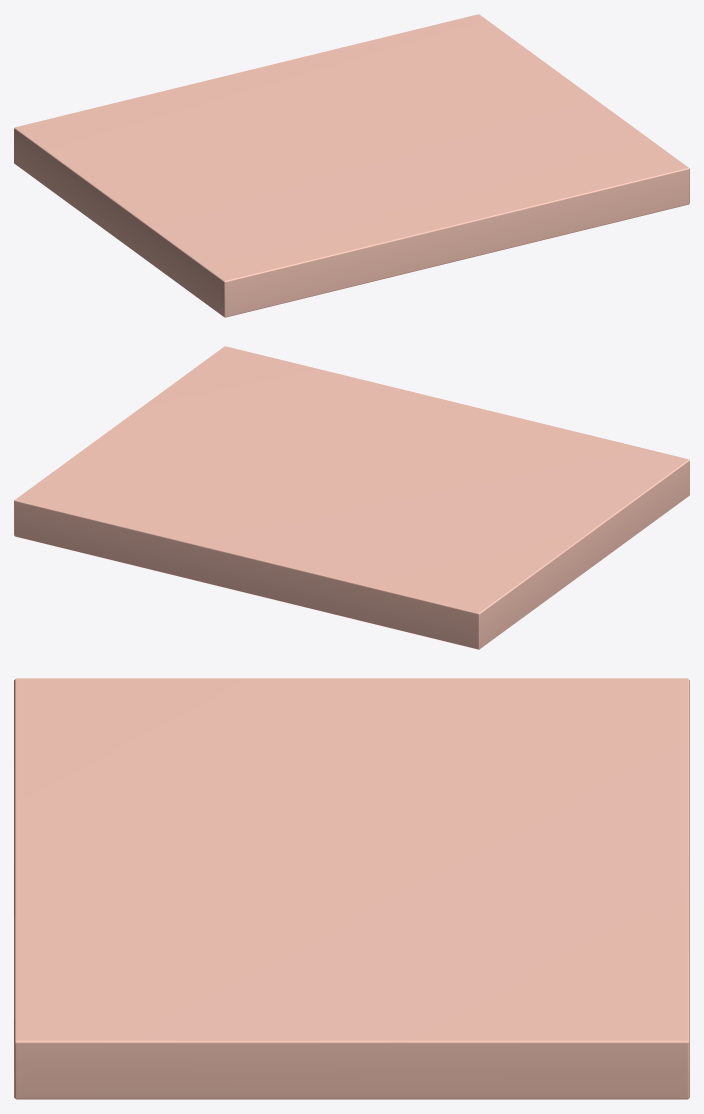
File: Public_2_Base_1.glb
3 views of the same model, one above another, from view 1: azimuth 30°, elevation 25°; view 2: azimuth 150°, elevation 25°; view 3: azimuth 270°, elevation 25° (orthographic). The views are drawn at different scales.
Parts seen in each view (by area): view 1: Public_2_Base_1; view 2: Public_2_Base_1; view 3: Public_2_Base_1.
Boxes of the visible parts, x1,y1,x2,y2 form: Public_2_Base_1: [14, 14, 689, 317]; Public_2_Base_1: [14, 346, 689, 649]; Public_2_Base_1: [14, 678, 689, 1099].
Bounding box in the file's own units: 16.67 × 1.27 × 13.08.
Materials: 1 (1 with a texture image).
